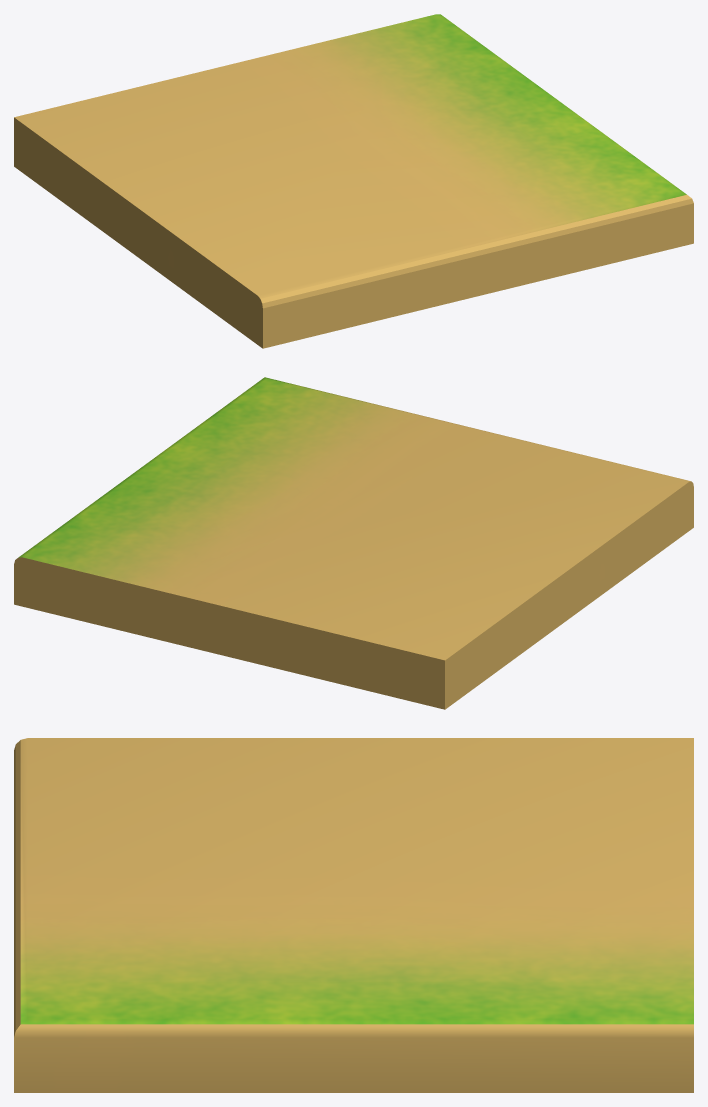
The model's file is Map023.obj.
3 views of the same model, one above another, from view 1: azimuth 30°, elevation 25°; view 2: azimuth 150°, elevation 25°; view 3: azimuth 270°, elevation 25° (orthographic). The views are drawn at different scales.
Parts seen in each view (by area): view 1: Map.023_Plane.043; view 2: Map.023_Plane.043; view 3: Map.023_Plane.043.
Part boxes in pixels (left/top/right/bottom): Map.023_Plane.043: left=14, top=14, right=693, bottom=348; Map.023_Plane.043: left=14, top=377, right=693, bottom=709; Map.023_Plane.043: left=14, top=738, right=693, bottom=1092.
Bounding box in the file's own units: 1 × 0.1093 × 1.
